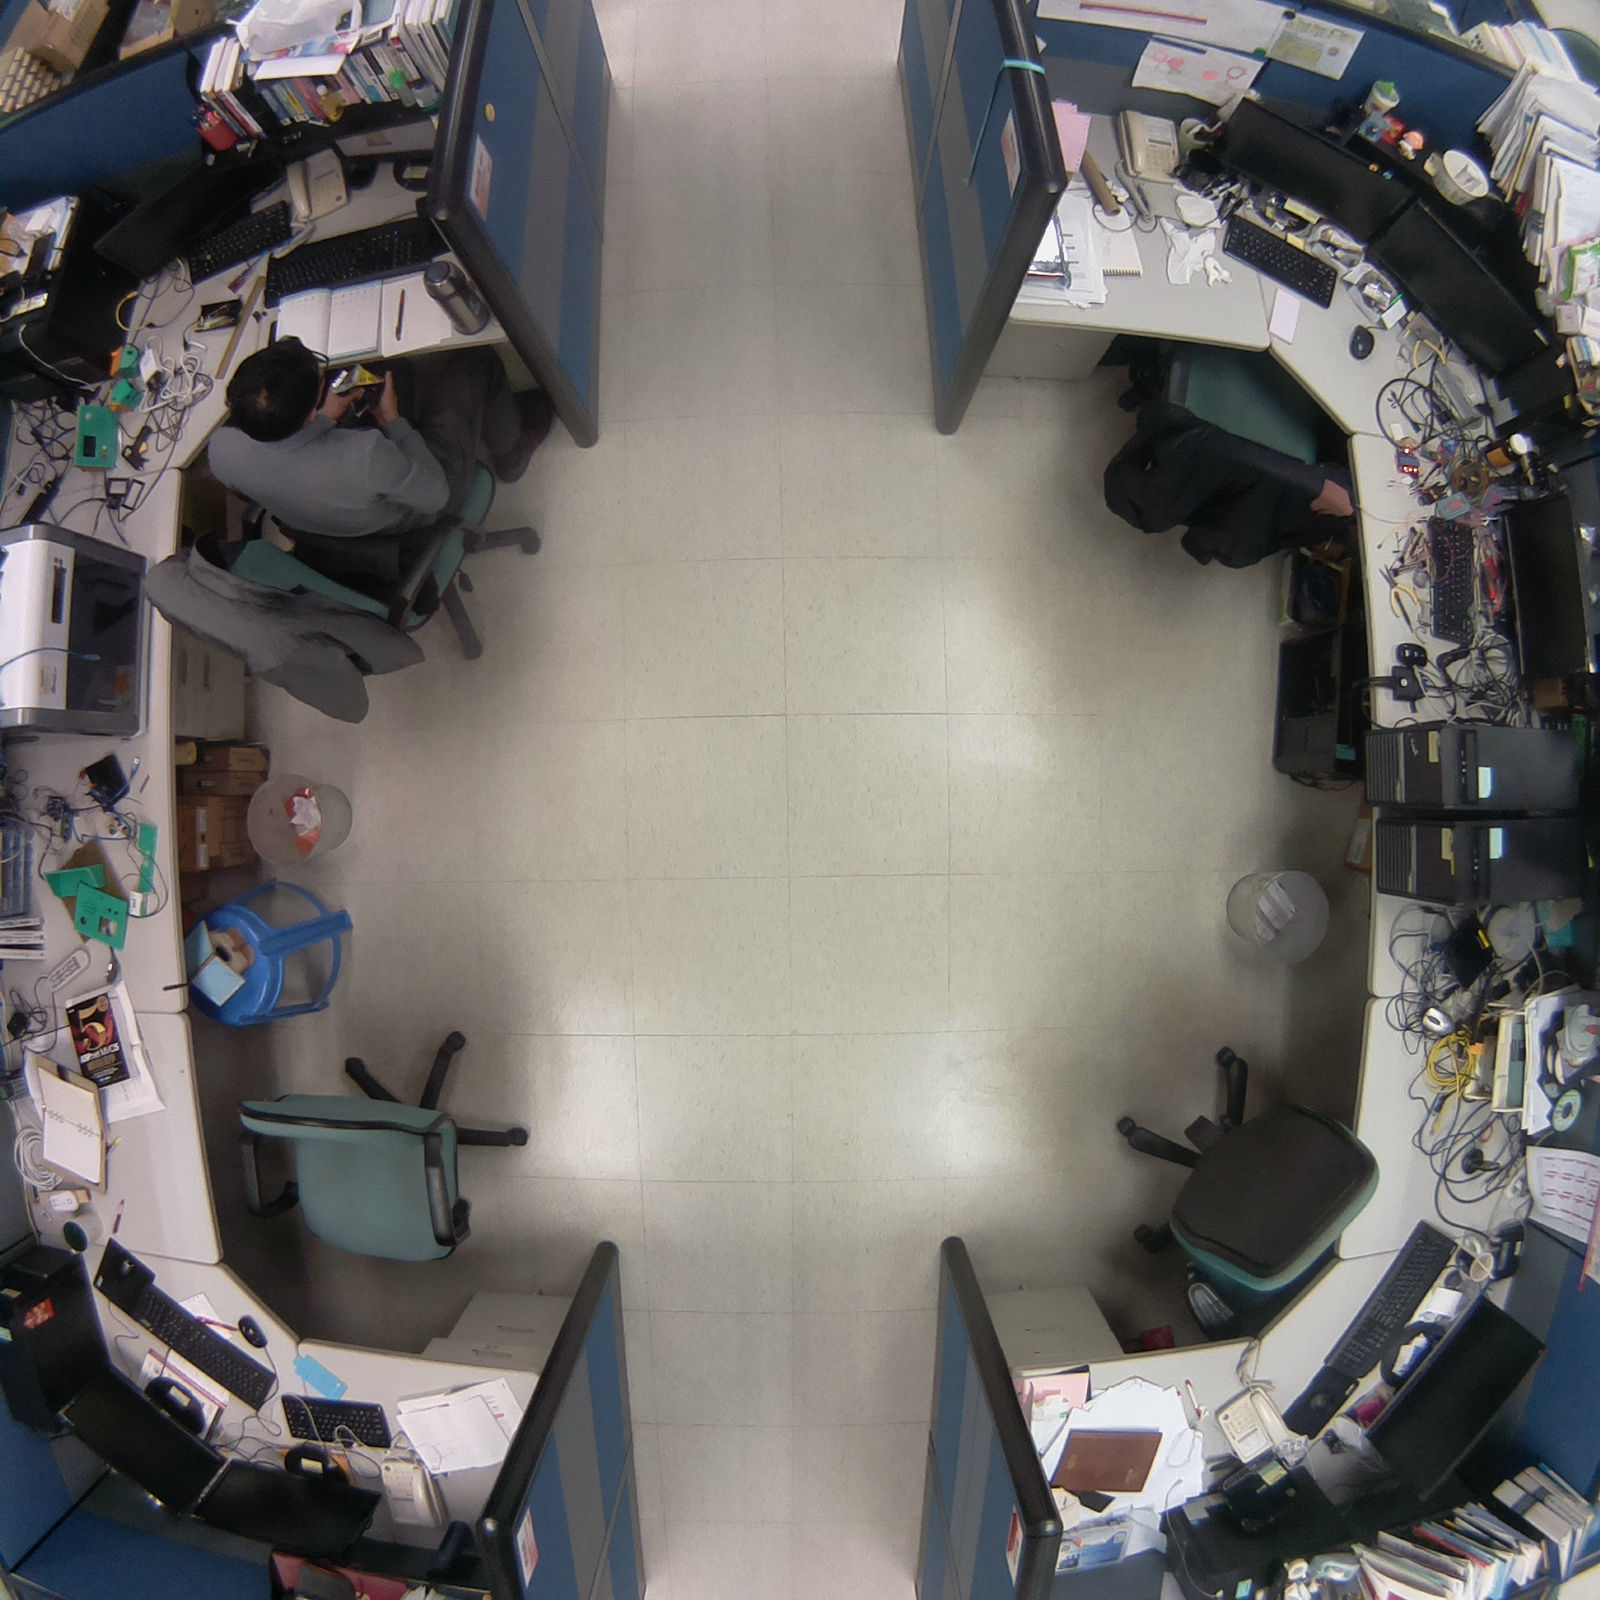chair: (217, 999, 558, 1281), (1094, 1027, 1391, 1345), (1070, 317, 1373, 593)
head: (215, 327, 336, 446)
sitting: (119, 327, 576, 750)
